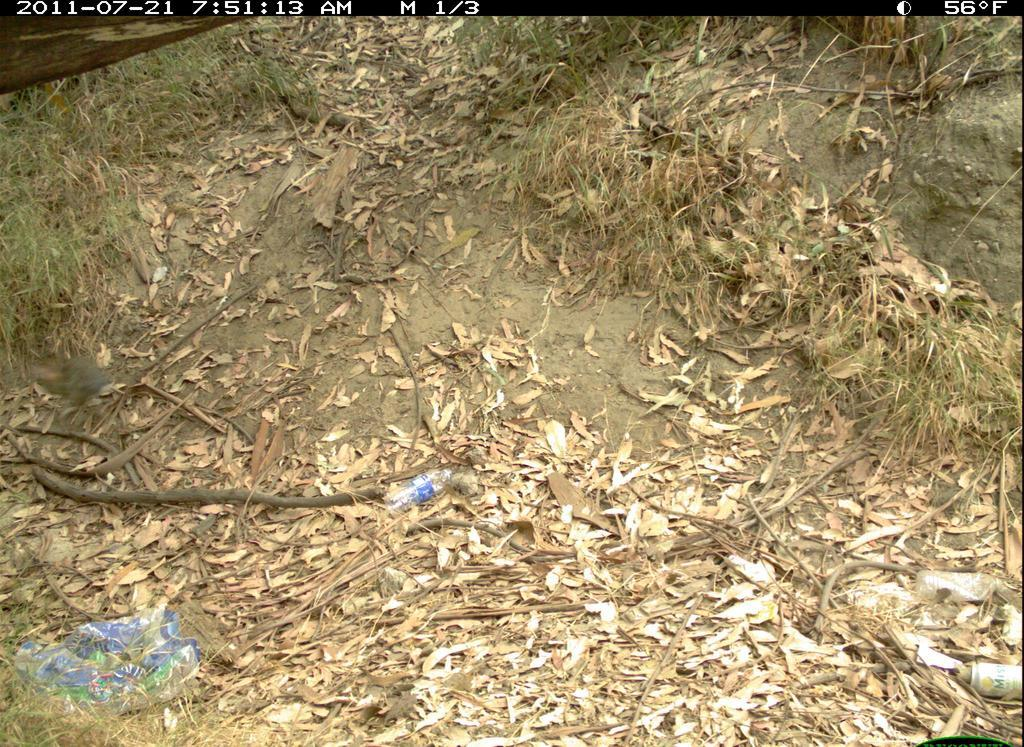rabbit: (24, 344, 126, 417)
